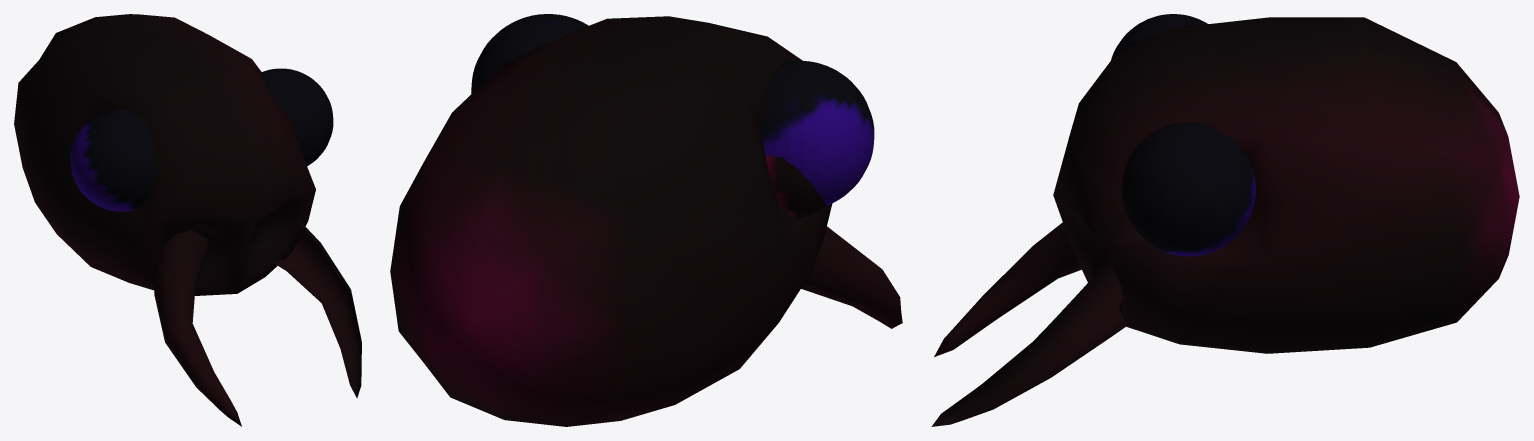
The model's file is head.fbx.
The picture shows the model from 3 angles, left to right: view 1: azimuth 30°, elevation 25°; view 2: azimuth 150°, elevation 25°; view 3: azimuth 270°, elevation 25°; orthographic projection. The views are drawn at different scales.
Visible parts, largest first — view 1: Cube.009, Sphere.001, Sphere.002; view 2: Cube.009, Sphere.001, Sphere.002; view 3: Cube.009, Sphere.002, Sphere.001.
Boxes of the visible parts, x1=… form: Cube.009: x1=14, y1=14, x2=361, y2=426; Sphere.001: x1=70, y1=109, x2=156, y2=211; Sphere.002: x1=260, y1=68, x2=333, y2=166; Cube.009: x1=390, y1=16, x2=902, y2=426; Sphere.001: x1=760, y1=60, x2=874, y2=206; Sphere.002: x1=471, y1=14, x2=588, y2=93; Cube.009: x1=931, y1=17, x2=1519, y2=426; Sphere.002: x1=1121, y1=122, x2=1255, y2=256; Sphere.001: x1=1111, y1=14, x2=1208, y2=59.
Bounding box in the file's own units: 284 × 292 × 444.
